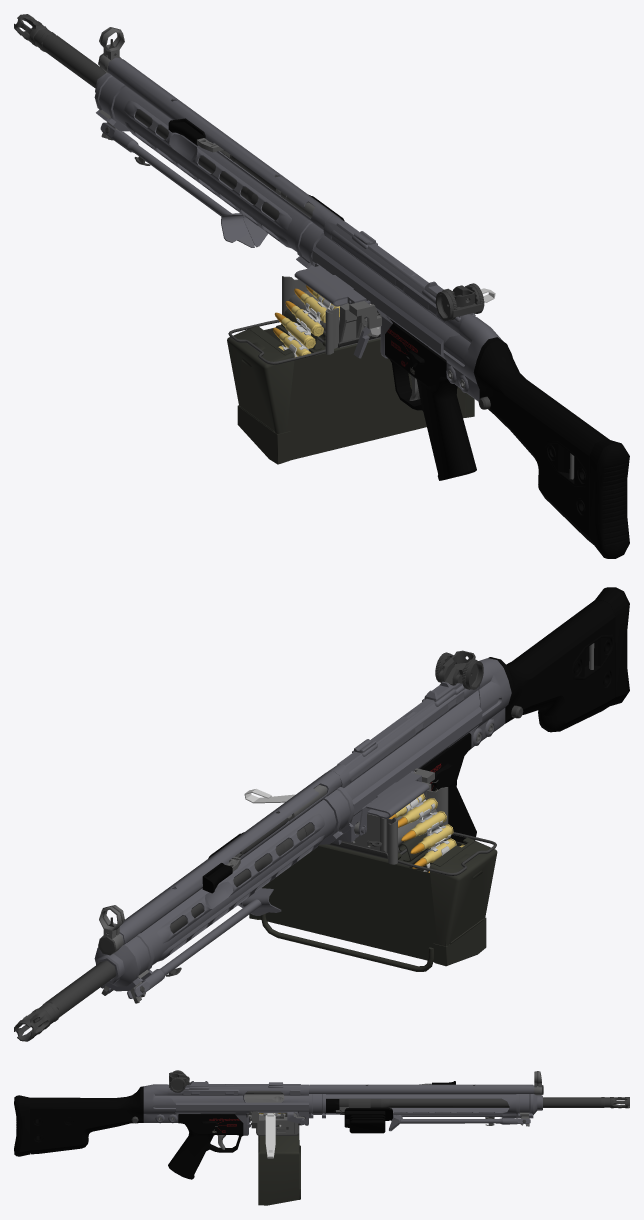
3 views of the same model, one above another, from view 1: azimuth 30°, elevation 25°; view 2: azimuth 150°, elevation 25°; view 3: azimuth 270°, elevation 25° (orthographic). The views are drawn at different scales.
Visible parts, largest first — view 1: recv_base, belt_box_main, stock_fixed_21E, FCG, belt_box_opening, butt_plate_large, barrel_long, bipod.L, back_plate, feed_mechanism_main, feed_mech_top_plate, belt_guide (+1 smaller); view 2: recv_base, belt_box_main, stock_fixed_21E, belt_box_opening, barrel_long, FCG, bipod.L, back_plate, butt_plate_large, feed_mech_top_plate, belt_guide, feed_mechanism_main (+3 smaller); view 3: recv_base, stock_fixed_21E, barrel_long, belt_box_main, FCG, back_plate, butt_plate_large, bipod.R, feed_mechanism_main, starter_tab.001, bolt, bipod.L.
Part boxes in pixels (x1,y1,x2,y2): recv_base: (94,27,475,359); belt_box_main: (237,308,474,464); stock_fixed_21E: (473,337,609,544); FCG: (385,319,476,480); belt_box_opening: (227,325,294,433); butt_plate_large: (589,440,629,558); barrel_long: (14,14,344,221); bipod.L: (100,122,254,247); back_plate: (444,315,502,401); feed_mechanism_main: (303,283,381,347); feed_mech_top_plate: (294,263,366,306); belt_guide: (282,276,339,354); recv_base: (94,681,482,991); belt_box_main: (249,825,486,971); stock_fixed_21E: (488,600,615,732); belt_box_opening: (429,837,497,945); barrel_long: (14,823,314,1041); FCG: (420,733,476,843); bipod.L: (127,888,281,998); back_plate: (471,658,511,748); butt_plate_large: (595,587,629,705); feed_mech_top_plate: (358,772,429,835); belt_guide: (386,787,448,864); feed_mechanism_main: (341,768,434,852); recv_base: (167,1071,543,1135); stock_fixed_21E: (30,1086,143,1154); barrel_long: (339,1097,629,1133); belt_box_main: (256,1125,300,1205); FCG: (168,1113,246,1179); back_plate: (143,1084,178,1123); butt_plate_large: (14,1095,30,1156); bipod.R: (389,1115,530,1131); feed_mechanism_main: (249,1111,305,1133); starter_tab.001: (263,1113,278,1158); bolt: (244,1091,284,1102); bipod.L: (389,1112,521,1129).
Size of the model in its own units: 26.59 by 22.92 by 114.
